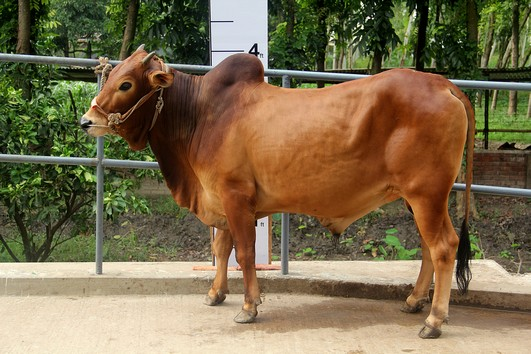cow: (75, 38, 479, 343)
